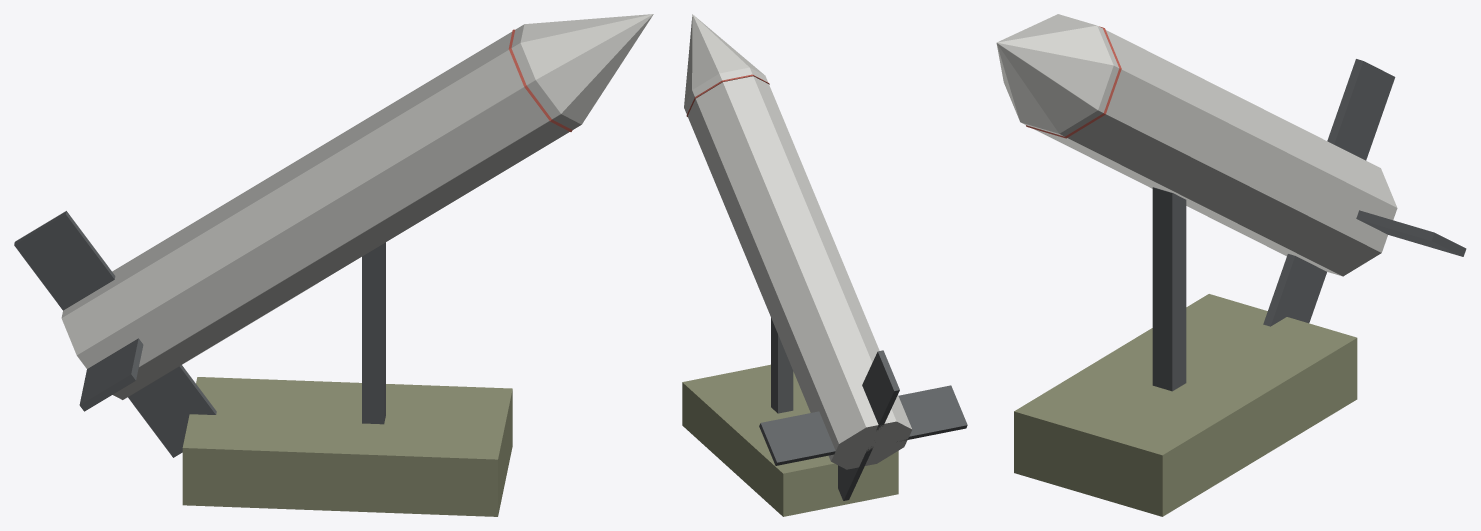
File: nuclear-missile.glb
3 views of the same model, side by side, from view 1: azimuth 30°, elevation 25°; view 2: azimuth 150°, elevation 25°; view 3: azimuth 270°, elevation 25° (orthographic). The views are drawn at different scales.
Visible parts, largest first — view 1: LOD0; view 2: LOD0; view 3: LOD0.
Part boxes in pixels (x1,y1,x2,y2): LOD0: [14, 14, 653, 516]; LOD0: [682, 14, 967, 516]; LOD0: [996, 14, 1466, 516].
Size of what is drawn, in the model's own units: 1.03 by 0.9889 by 0.8297.
